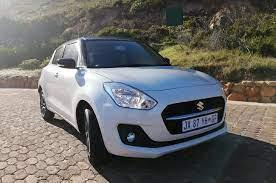Hatchback: (38, 36, 230, 169)
